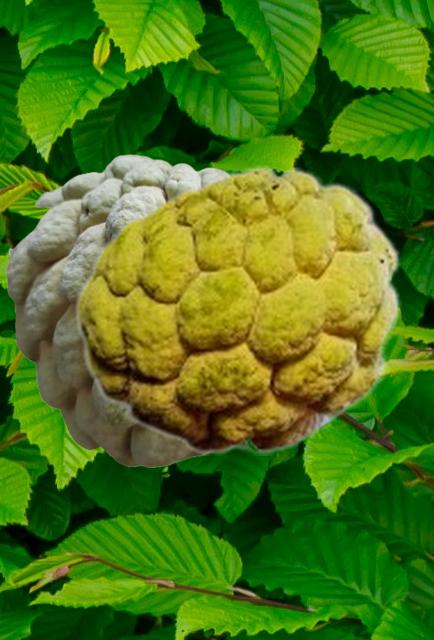atis: (73, 165, 400, 454), (5, 154, 226, 466)
